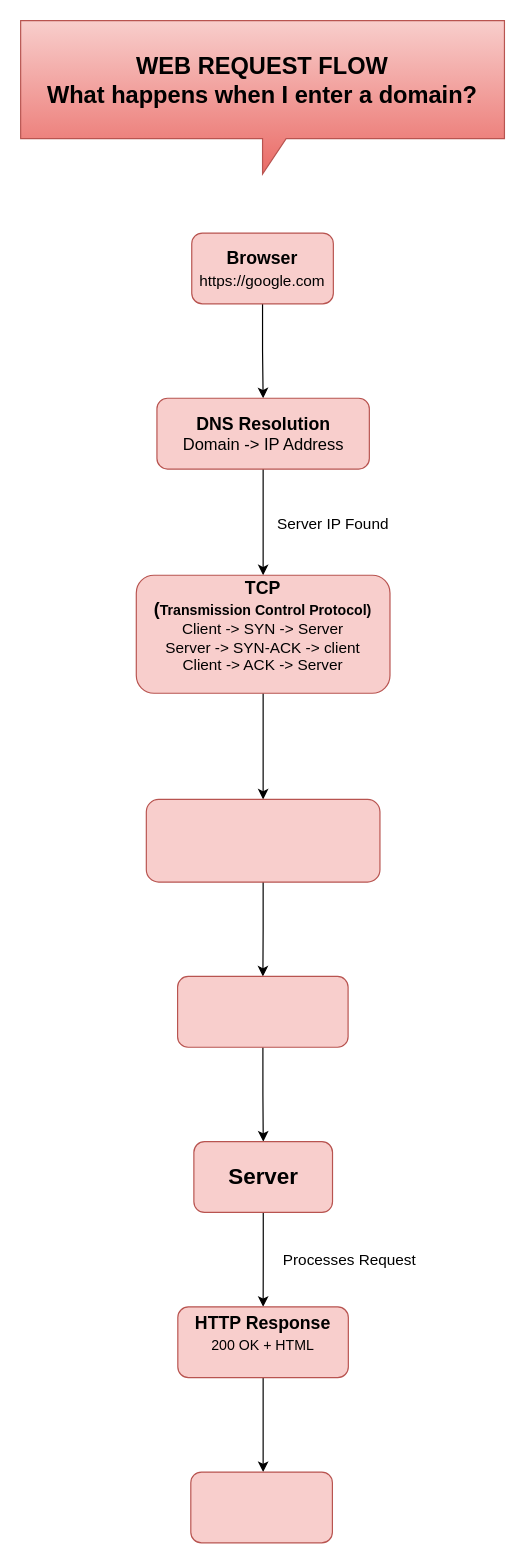
The diagram is 525 pixels wide and 1563 high, and some of its shapes have lost their labels. The centre of each missing label's shape, as x and y in pixels:
Browser: point 261,1507
HTTP Request GET/: point 262,1011
TLS ( Transport Layer Security) HTTPS: point 262,840
